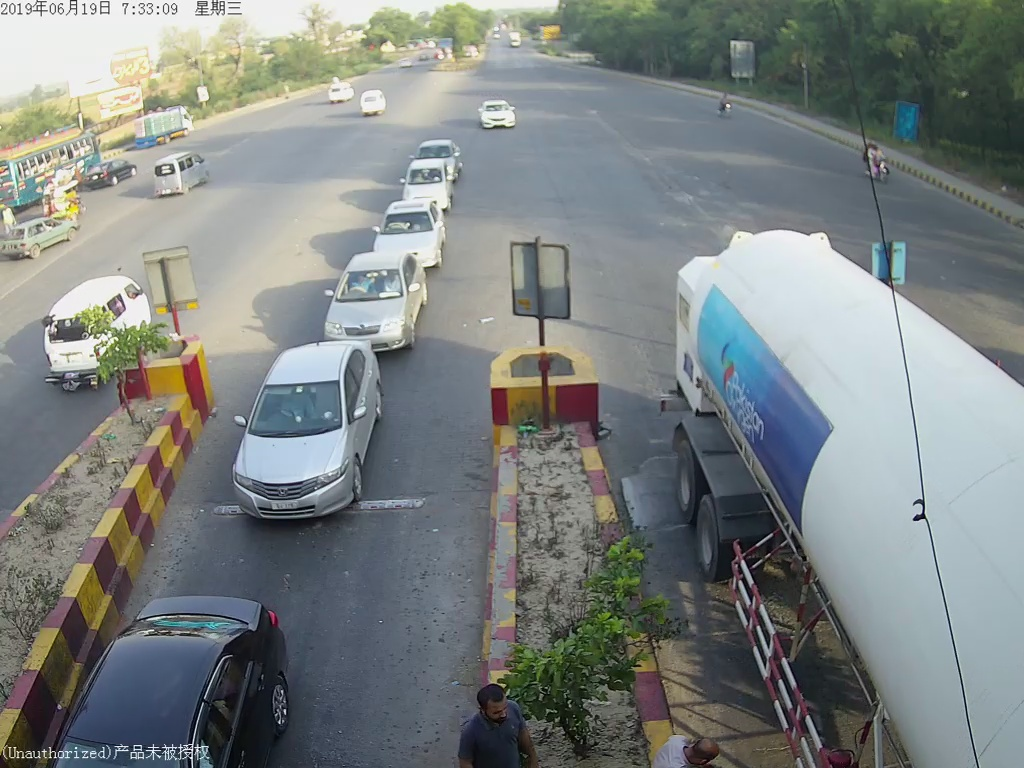Cat-1: (226, 337, 392, 524), (324, 252, 422, 342)
